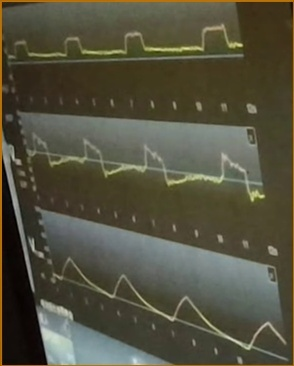Accumulation Flow: (28, 127, 265, 203)
Volume: (53, 253, 284, 354)
